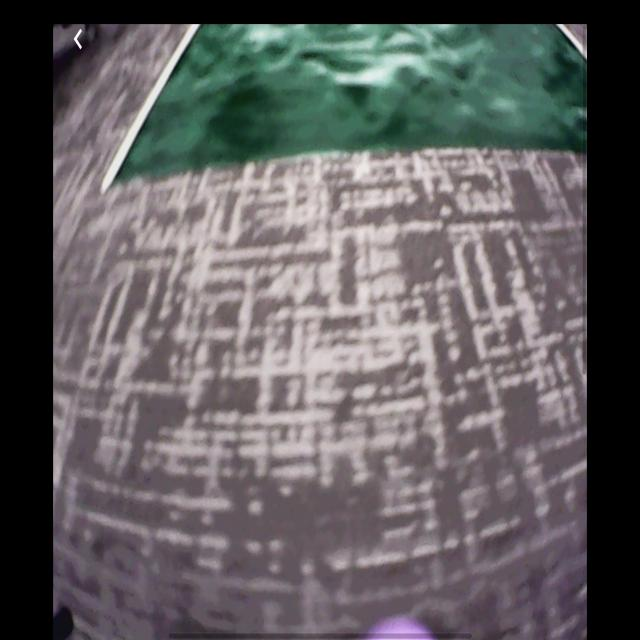ball: (371, 617, 439, 640)
